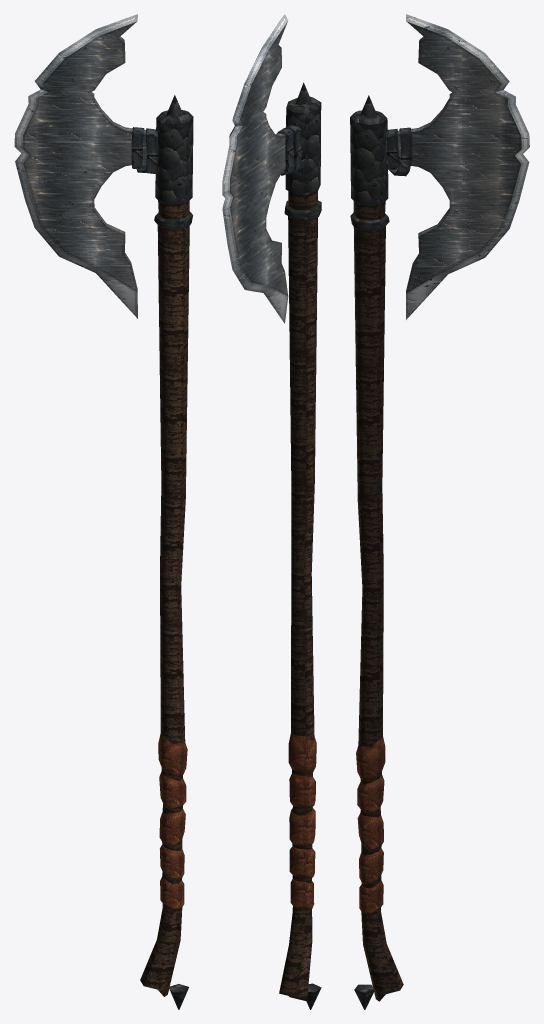
Rendered from dane_axe.glb.
3 views of the same model, side by side, from view 1: azimuth 90°, elevation 25°; view 2: azimuth 150°, elevation 25°; view 3: azimuth 270°, elevation 25° (orthographic).
Parts seen in each view (by area): view 1: dane_axe; view 2: dane_axe; view 3: dane_axe.
Part boxes in pixels (x1,y1,x2,y2): dane_axe: (14, 14, 193, 1009); dane_axe: (222, 14, 321, 1009); dane_axe: (350, 14, 529, 1009).
Size of the model in its own units: 0.0466 by 1.4 by 0.2283.
Materials: 1 (1 with a texture image).
